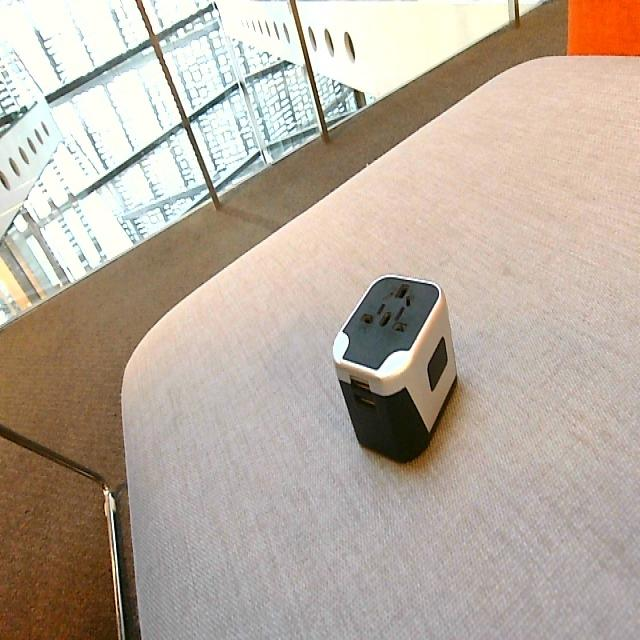adapter: (331, 272, 458, 463)
